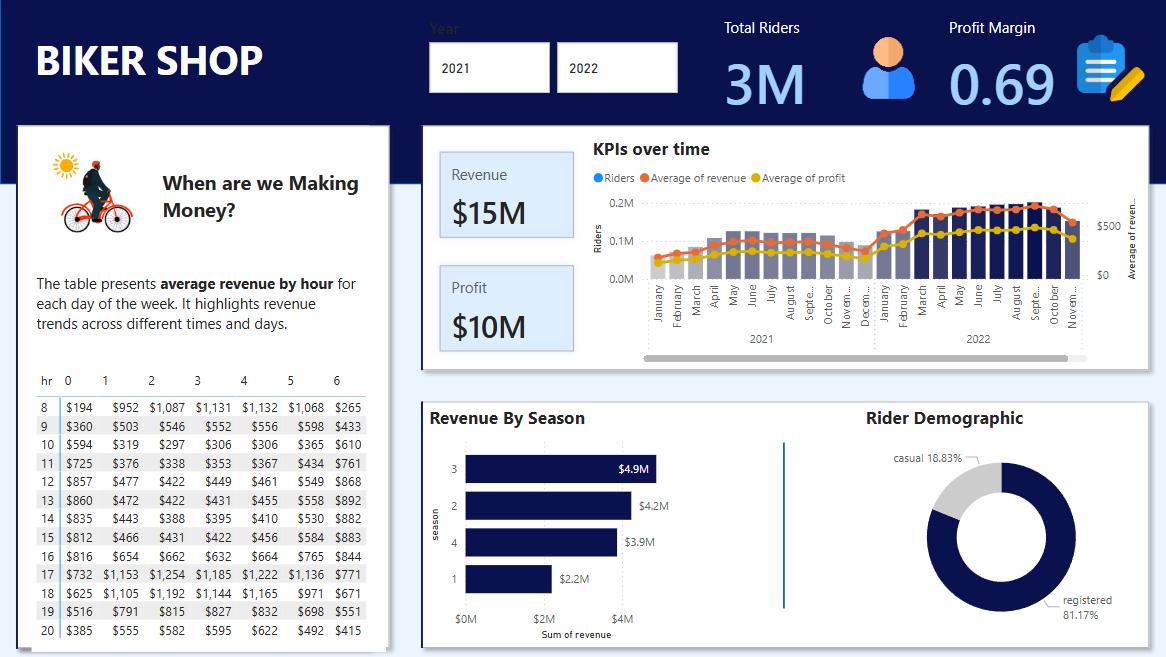

What the dashboard file says about the page in this screenshot:
{"tool":"powerbi","page":{"name":"Page 1","canvas":[1280,720],"ordinal":0},"visuals":[{"type":"shape","box":[0,0,1269.9,202.2],"z":0},{"type":"cardVisual","fields":{"Data":["Min(Query1.riders)"]},"box":[0,120.9,415.8,599.1],"z":1000},{"type":"cardVisual","fields":{"Data":["Min(Query1.riders)"]},"box":[437.2,419.8,820.4,300.4],"z":2000},{"type":"cardVisual","fields":{"Data":["Min(Query1.riders)"]},"box":[0,121.3,437.2,598.9],"z":3000},{"type":"cardVisual","fields":{"Data":["Min(Query1.riders)"]},"box":[437.2,121.3,820.4,298.5],"z":4000},{"type":"cardVisual","fields":{"Data":["Min(Query1.riders)"]},"box":[33.5,149.5,136.6,118.6],"z":5000},{"type":"pivotTable","fields":{"Columns":["Query1.weekday"],"Rows":["Query1.hr"],"Values":["Avg(Query1.revenue)"]},"box":[33.9,398.3,382.4,308.7],"z":6000},{"type":"textbox","box":[170.1,180.4,224.2,87.6],"z":7000},{"type":"textbox","box":[34.7,292.7,358.2,80.9],"z":8000},{"type":"lineClusteredColumnComboChart","title":"KPIs over time","fields":{"Y":["Sum(Query1.riders)"],"Category":["Query1.dteday.Variation.Date Hierarchy.Year","Query1.dteday.Variation.Date Hierarchy.Month"],"Y2":["Avg(Query1.revenue)","Avg(Query1.profit)"]},"box":[635.5,150.2,597,248.4],"z":9000},{"type":"clusteredBarChart","title":"Revenue By Season","fields":{"Category":["Query1.season"],"Y":["Sum(Query1.revenue)"]},"box":[458.3,441,300.4,258.1],"z":10000},{"type":"donutChart","title":"Rider Demographic","fields":{"Category":["Query1.rider_type"],"Y":["Sum(Query1.riders)"]},"box":[930.2,441,302.4,260],"z":11000},{"type":"shape","box":[845.4,481.5,1.9,179.1],"z":12000},{"type":"cardVisual","title":"KPIs over time","fields":{"Data":["Sum(Query1.revenue)","Sum(Query1.profit)"]},"box":[458.3,150.2,177.2,248.4],"z":13000},{"type":"cardVisual","fields":{"Data":["Sum(Query1.riders)","Query1.Margin"]},"box":[758.8,0,498.8,150.2],"z":14000},{"type":"textbox","box":[32.7,32.7,300.4,67.4],"z":15000},{"type":"advancedSlicerVisual","fields":{"Values":["Query1.Year"]},"box":[458.3,25,279.2,84.7],"z":16000}]}

Visuals, with their boxes in screenshot pixels (x1, y1, x2, y2), scaled from the page's 1280x720 canvas onto the 1166x657 screenshot:
shape: (0, 0, 1157, 185)
cardVisual - Min(Query1.riders): (0, 110, 379, 656)
cardVisual - Min(Query1.riders): (398, 383, 1146, 656)
cardVisual - Min(Query1.riders): (0, 111, 398, 656)
cardVisual - Min(Query1.riders): (398, 111, 1146, 383)
cardVisual - Min(Query1.riders): (31, 136, 155, 245)
pivotTable - Query1.weekday x Query1.hr: (31, 363, 379, 645)
textbox: (155, 165, 359, 245)
textbox: (32, 267, 358, 341)
"KPIs over time" lineClusteredColumnComboChart: (579, 137, 1123, 364)
"Revenue By Season" clusteredBarChart: (417, 402, 691, 638)
"Rider Demographic" donutChart: (847, 402, 1123, 640)
shape: (770, 439, 772, 603)
"KPIs over time" cardVisual: (417, 137, 579, 364)
cardVisual - Sum(Query1.riders) x Query1.Margin: (691, 0, 1146, 137)
textbox: (30, 30, 303, 91)
advancedSlicerVisual - Query1.Year: (417, 23, 672, 100)
